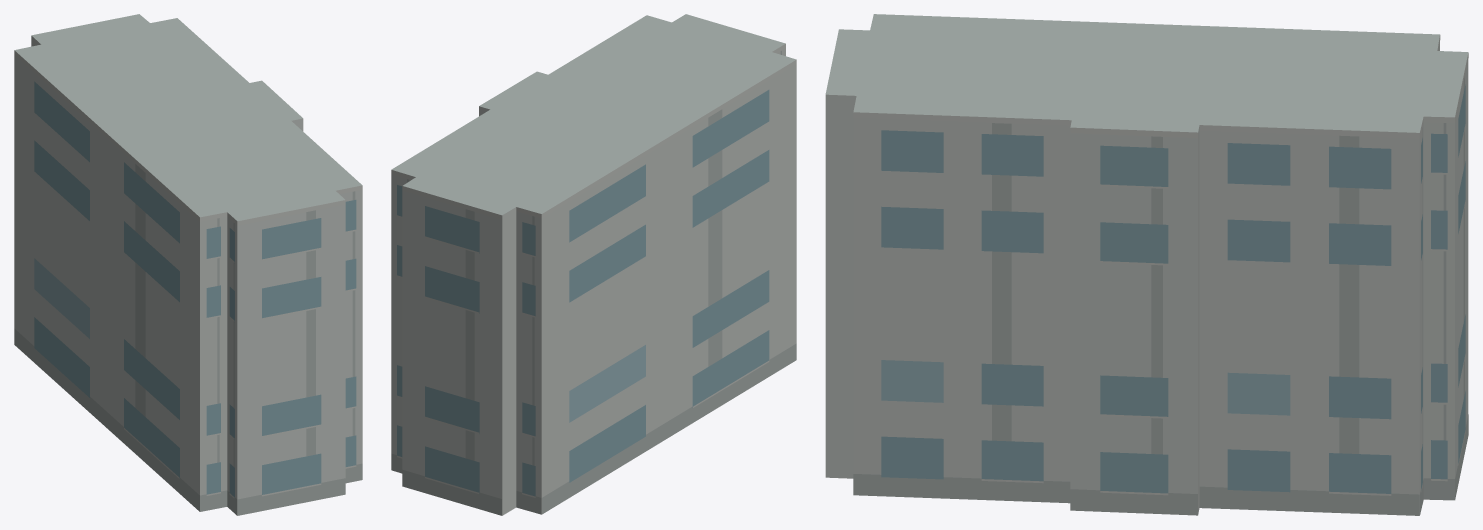
Rendered from survey-upis-32975769.glb.
The picture shows the model from 3 angles, left to right: view 1: azimuth 30°, elevation 25°; view 2: azimuth 150°, elevation 25°; view 3: azimuth 270°, elevation 25°; orthographic projection. The views are drawn at different scales.
Parts seen in each view (by area): view 1: survey-upis-32975769.tmp; view 2: survey-upis-32975769.tmp; view 3: survey-upis-32975769.tmp.
Boxes of the visible parts, x1=… form: survey-upis-32975769.tmp: x1=14, y1=14, x2=362, y2=515; survey-upis-32975769.tmp: x1=391, y1=14, x2=796, y2=515; survey-upis-32975769.tmp: x1=825, y1=14, x2=1468, y2=515.
Bounding box in the file's own units: 10.83 × 16.25 × 24.74.
